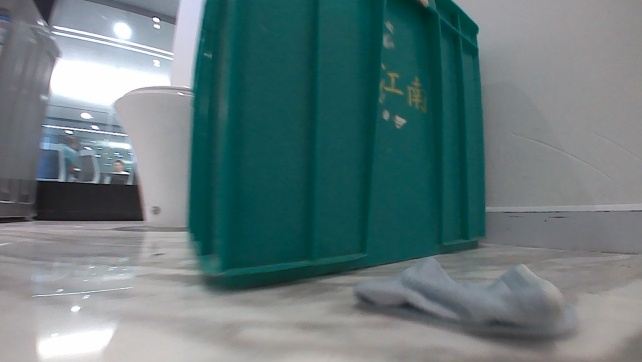socks: (348, 253, 584, 342)
toilet: (106, 78, 193, 230)
